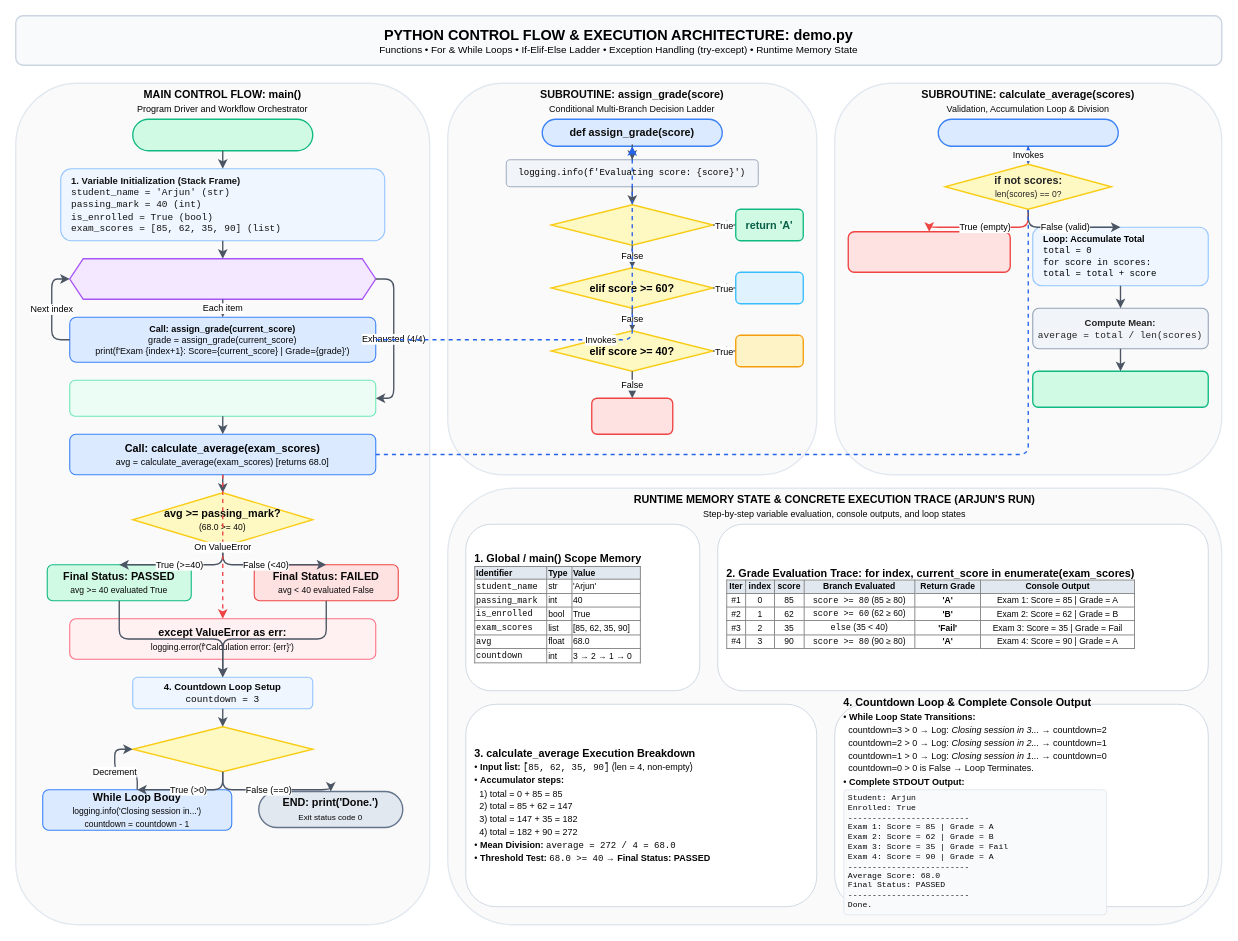
The diagram is 1238 pixels wide and 941 high, and some of its shapes have lost their labels. Each missing label, with the centre of its shape:
2. For Loop: enumerate(exam_scores) Iterate: index, current_score (4 items): the point at 222,279
3. Error Handling Block: try Guards calculation against empty sequence: the point at 222,397
def calculate_average(scores): the point at 1028,132
else: return 'Fail': the point at 632,416
if score >= 80?: the point at 632,225
raise ValueError 'Score list cannot be empty.': the point at 929,252
return 'B': the point at 769,287
return 'C': the point at 769,350
return average Float result (e.g. 68.0): the point at 1120,389
START: main() Entry point (if __name__ == '__main__'): the point at 222,134
while countdown > 0?: the point at 222,749
